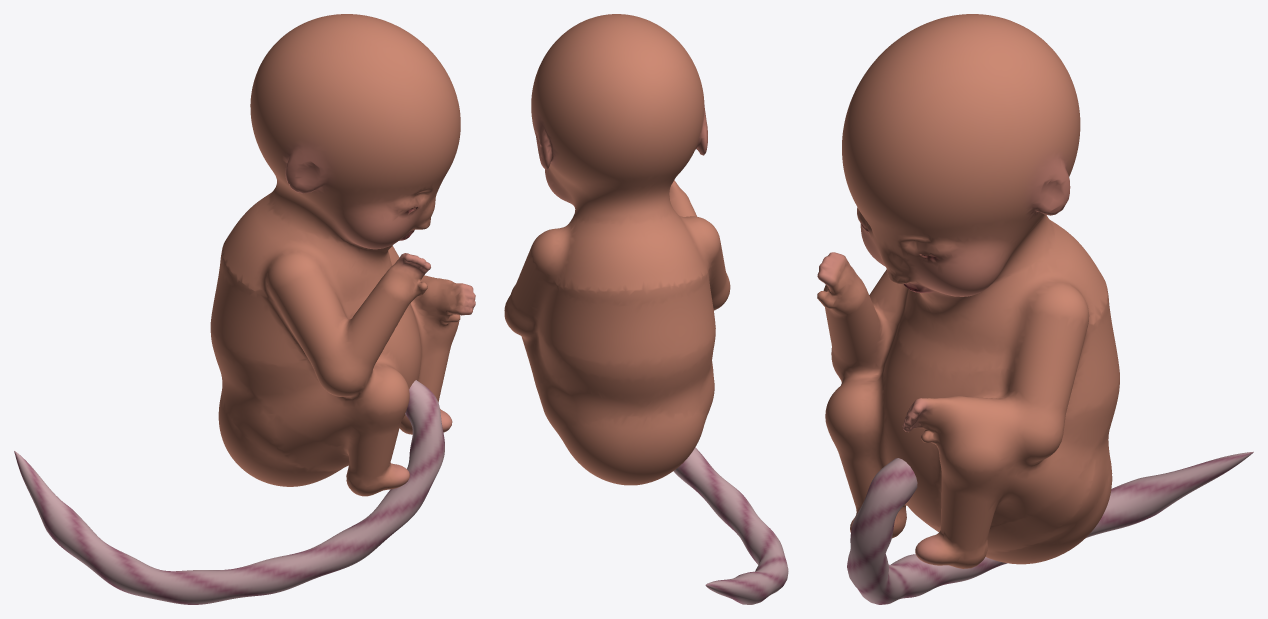
Rendered from week_36.glb.
3 views of the same model, side by side, from view 1: azimuth 30°, elevation 25°; view 2: azimuth 150°, elevation 25°; view 3: azimuth 270°, elevation 25° (orthographic). The views are drawn at different scales.
Visible parts, largest first — view 1: skin, cord; view 2: skin, cord; view 3: skin, cord.
Boxes of the visible parts, left/top/right/bottom form: skin: left=210, top=14, right=475, bottom=496; cord: left=14, top=380, right=444, bottom=604; skin: left=504, top=14, right=730, bottom=485; cord: left=673, top=447, right=788, bottom=604; skin: left=817, top=14, right=1119, bottom=568; cord: left=847, top=451, right=1253, bottom=604.
Bounding box in the file's own units: 1.79 × 2.75 × 1.69.
